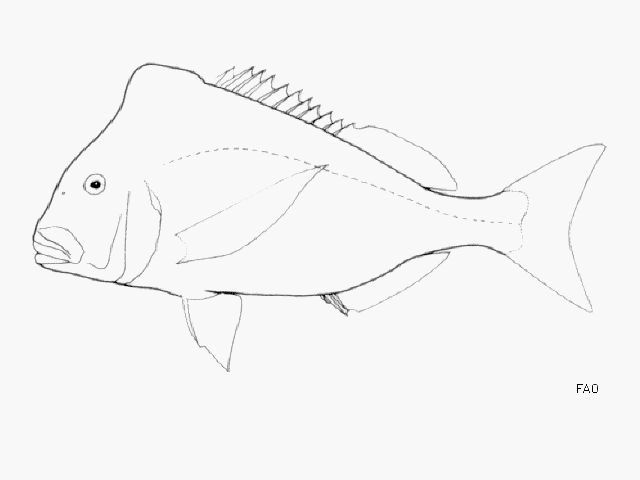fish: (34, 63, 601, 369)
